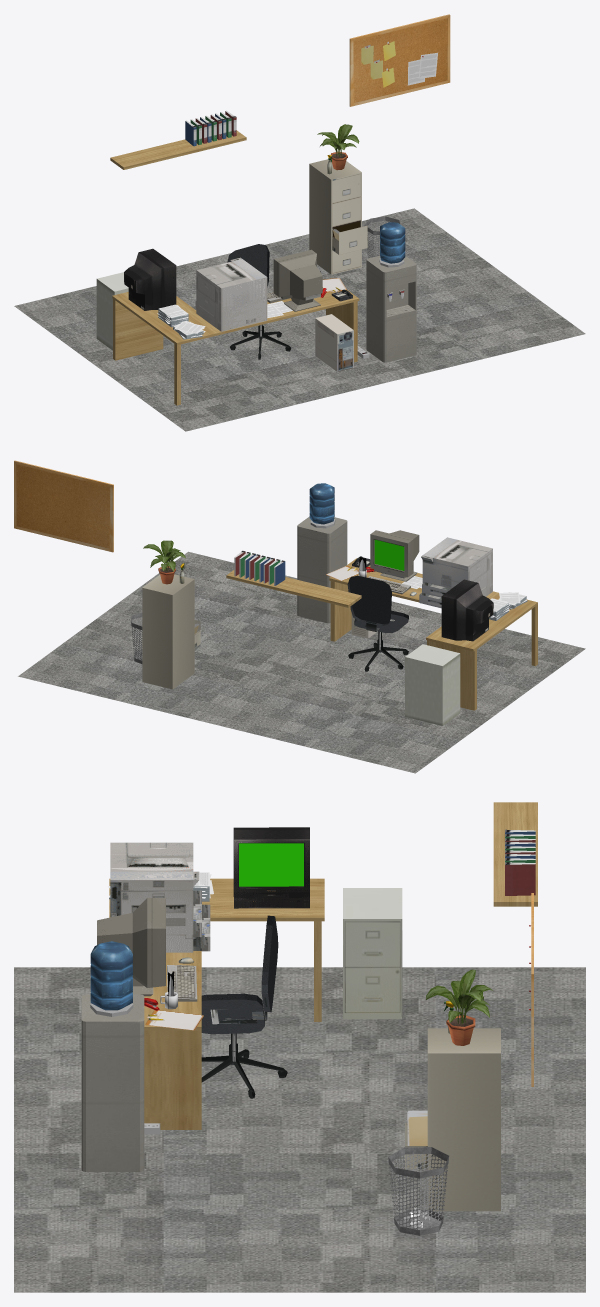
File: Office.fbx
3 renders of one model, top to bottom at view 1: azimuth 30°, elevation 25°; view 2: azimuth 150°, elevation 25°; view 3: azimuth 270°, elevation 25°, orthographic. The views are drawn at different scales.
Visible parts, largest first — view 1: Carpetimg, Corkboard, Cubicle_Desk, Water_Cooler, _4_Drawer_Filing_Cabinet, Printer, Panasonic_VHS_TV, Computer_Monitor, PC_Tower, Shelf, _2_Drawer_Filing_Cabinet, Chair (+6 smaller); view 2: Carpetimg, Corkboard, _4_Drawer_Filing_Cabinet, Cubicle_Desk, _2_Drawer_Filing_Cabinet, Water_Cooler, Printer, Chair, Panasonic_VHS_TV, Computer_Monitor, Shelf, Water_Jug (+3 smaller); view 3: Carpetimg, _4_Drawer_Filing_Cabinet, Cubicle_Desk, Water_Cooler, _2_Drawer_Filing_Cabinet, Printer, Panasonic_VHS_TV, Chair, Computer_Monitor, Trash_Cam, Shelf, Water_Jug (+5 smaller).
Part boxes in pixels (x1,y1,x2,y2): Carpetimg: [14, 208, 585, 431]; Corkboard: [349, 14, 450, 106]; Cubicle_Desk: [112, 278, 359, 405]; Water_Cooler: [366, 255, 416, 362]; _4_Drawer_Filing_Cabinet: [309, 159, 361, 274]; Printer: [196, 257, 267, 331]; Panasonic_VHS_TV: [124, 248, 176, 310]; Computer_Monitor: [273, 249, 322, 311]; PC_Tower: [315, 314, 353, 371]; Shelf: [110, 130, 246, 169]; _2_Drawer_Filing_Cabinet: [96, 272, 128, 350]; Chair: [227, 244, 291, 359]; Carpetimg: [18, 551, 585, 773]; Corkboard: [14, 460, 113, 552]; _4_Drawer_Filing_Cabinet: [142, 574, 194, 689]; Cubicle_Desk: [329, 558, 537, 710]; _2_Drawer_Filing_Cabinet: [405, 644, 460, 725]; Water_Cooler: [297, 516, 347, 623]; Printer: [421, 537, 492, 596]; Chair: [347, 575, 408, 671]; Panasonic_VHS_TV: [441, 579, 493, 641]; Computer_Monitor: [370, 530, 419, 581]; Shelf: [226, 570, 361, 607]; Water_Jug: [309, 483, 334, 524]; Carpetimg: [14, 967, 585, 1292]; _4_Drawer_Filing_Cabinet: [427, 1028, 500, 1211]; Cubicle_Desk: [109, 878, 324, 1129]; Water_Cooler: [81, 994, 144, 1171]; _2_Drawer_Filing_Cabinet: [343, 888, 402, 1019]; Printer: [110, 842, 199, 952]; Panasonic_VHS_TV: [233, 827, 309, 908]; Chair: [201, 915, 287, 1098]; Computer_Monitor: [97, 898, 165, 996]; Trash_Cam: [388, 1147, 449, 1235]; Shelf: [493, 802, 537, 906]; Water_Jug: [90, 941, 132, 1010].
Bounding box in the file's own units: 787 × 360 × 557.
30 materials, 29 textured.
